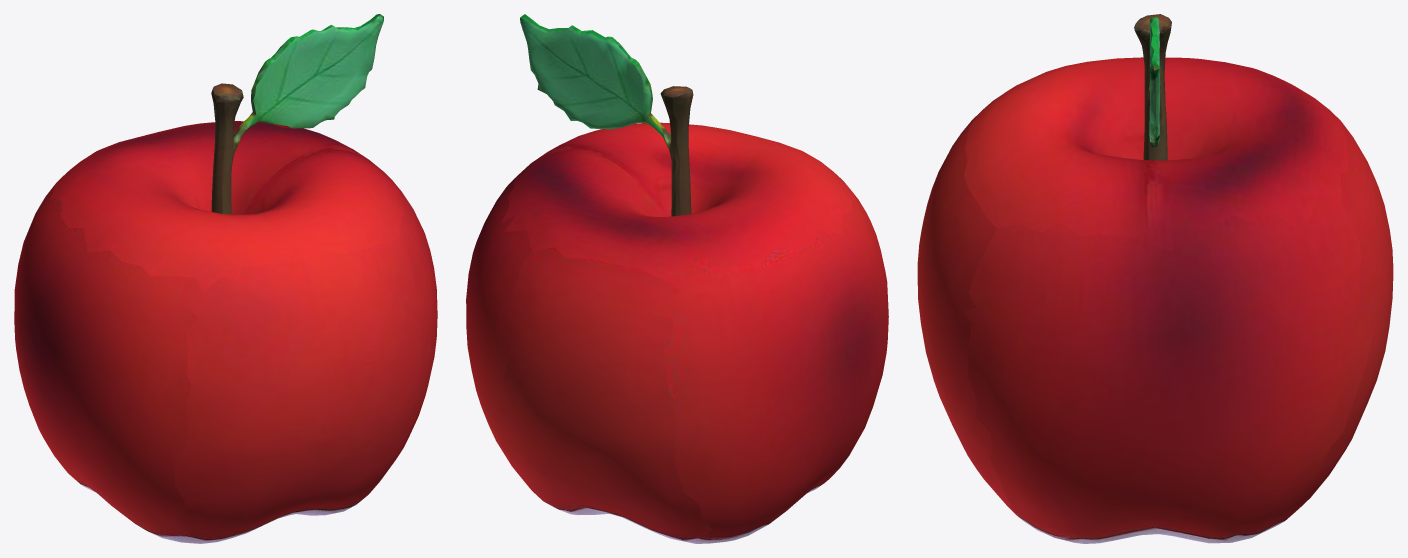
Rendered from apple.glb.
The picture shows the model from 3 angles, left to right: view 1: azimuth 30°, elevation 25°; view 2: azimuth 150°, elevation 25°; view 3: azimuth 270°, elevation 25°; orthographic projection. The views are drawn at different scales.
Visible parts, largest first — view 1: item_apple; view 2: item_apple; view 3: item_apple.
Part boxes in pixels (left/top/right/bottom): item_apple: left=14, top=14, right=437, bottom=543; item_apple: left=466, top=14, right=888, bottom=543; item_apple: left=917, top=14, right=1393, bottom=543.
Bounding box in the file's own units: 0.8605 × 1 × 0.8303.
Materials: 1 (1 with a texture image).
